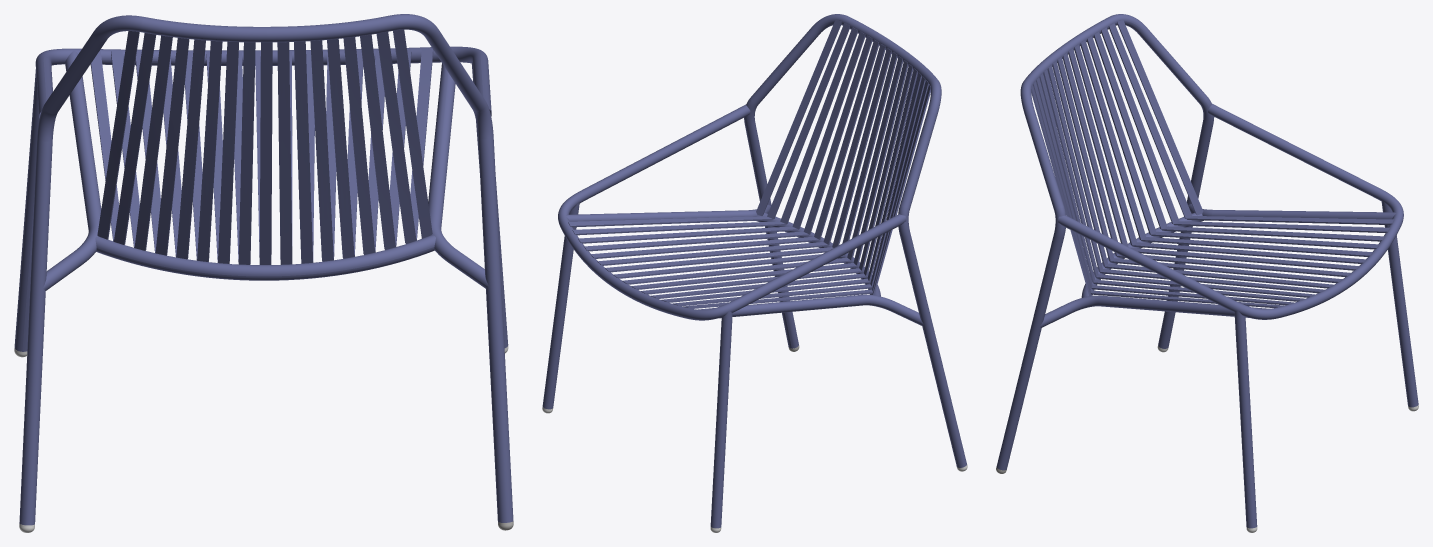
Rendered from tomeolounge.glb.
3 renders of one model, left to right at view 1: azimuth 30°, elevation 25°; view 2: azimuth 150°, elevation 25°; view 3: azimuth 270°, elevation 25°, orthographic. The views are drawn at different scales.
Visible parts, largest first — view 1: Brep.057, Brep.055, Brep.064, Brep.045, Brep.036, Brep.046, Brep.051, Brep.049, Brep.048, Brep.038, Brep.040, Brep.047 (+15 smaller); view 2: Brep.057, Brep.055, Brep.038, Brep.037, Brep.036, Brep.039, Brep.040, Brep.041, Brep.042, Brep.059, Brep.043, Brep.051 (+18 smaller); view 3: Brep.055, Brep.057, Brep.047, Brep.045, Brep.046, Brep.048, Brep.049, Brep.050, Brep.051, Brep.061, Brep.043, Brep.042 (+18 smaller).
Boxes of the visible parts, x1,y1,x2,y2 form: Brep.057: [19, 15, 266, 525]; Brep.055: [267, 14, 513, 522]; Brep.064: [95, 235, 435, 280]; Brep.045: [90, 33, 156, 244]; Brep.036: [376, 32, 433, 243]; Brep.046: [111, 35, 172, 250]; Brep.051: [234, 42, 255, 264]; Brep.049: [184, 41, 222, 261]; Brep.048: [158, 39, 205, 259]; Brep.038: [343, 37, 384, 254]; Brep.040: [310, 40, 336, 261]; Brep.047: [135, 38, 189, 255]; Brep.057: [895, 48, 966, 467]; Brep.055: [744, 14, 901, 348]; Brep.038: [578, 31, 865, 243]; Brep.037: [572, 27, 857, 235]; Brep.036: [568, 23, 849, 227]; Brep.039: [584, 35, 872, 251]; Brep.040: [590, 39, 879, 258]; Brep.041: [597, 44, 885, 265]; Brep.042: [605, 48, 891, 272]; Brep.059: [710, 311, 732, 528]; Brep.043: [613, 52, 897, 278]; Brep.051: [622, 56, 903, 284]; Brep.055: [996, 49, 1065, 470]; Brep.057: [1058, 14, 1214, 348]; Brep.047: [1094, 31, 1384, 241]; Brep.045: [1108, 23, 1394, 224]; Brep.046: [1101, 27, 1389, 232]; Brep.048: [1087, 36, 1379, 249]; Brep.049: [1080, 40, 1373, 256]; Brep.050: [1074, 44, 1366, 263]; Brep.051: [1068, 48, 1359, 270]; Brep.061: [1234, 311, 1257, 528]; Brep.043: [1062, 53, 1351, 277]; Brep.042: [1057, 57, 1342, 283].
Bounding box in the file's own units: 0.8138 × 0.7381 × 0.7832.
